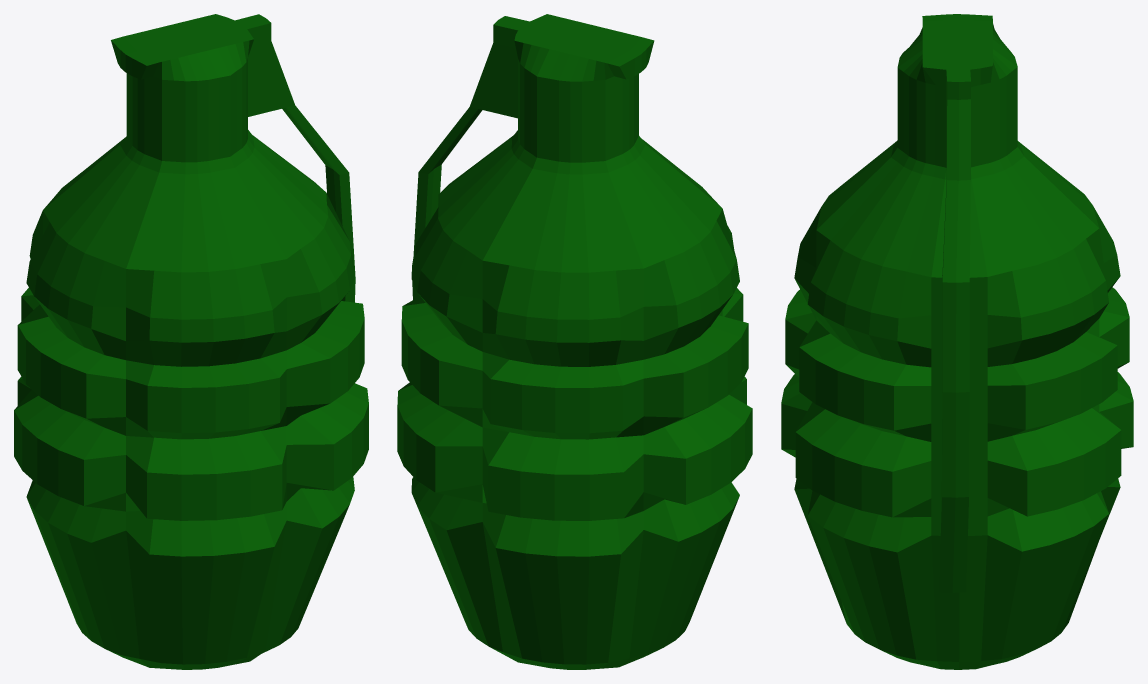
File: granada.fbx
3 renders of one model, left to right at view 1: azimuth 30°, elevation 25°; view 2: azimuth 150°, elevation 25°; view 3: azimuth 270°, elevation 25°, orthographic.
Parts seen in each view (by area): view 1: granada; view 2: granada; view 3: granada.
Part boxes in pixels (box(x1,y1,x2,y2)): granada: box(14, 14, 368, 669); granada: box(397, 14, 752, 669); granada: box(781, 14, 1133, 669).
Size of the model in its own units: 14 by 25.42 by 13.83.
